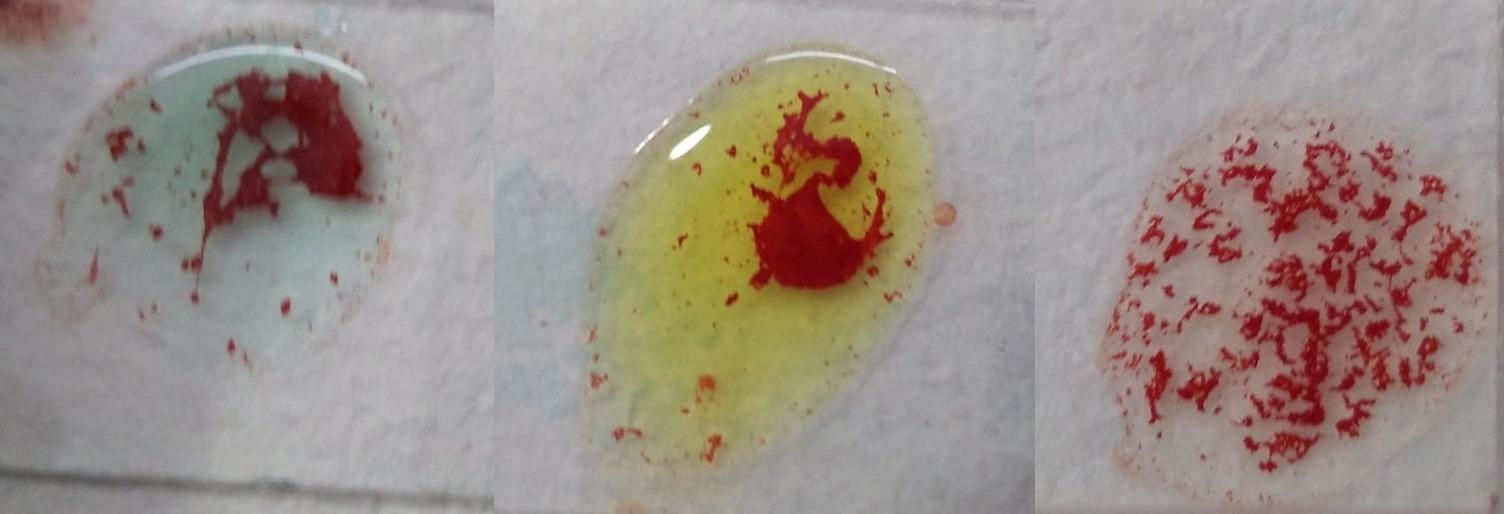A: (57, 30, 396, 369)
B: (597, 47, 921, 467)
D: (1121, 107, 1477, 491)
